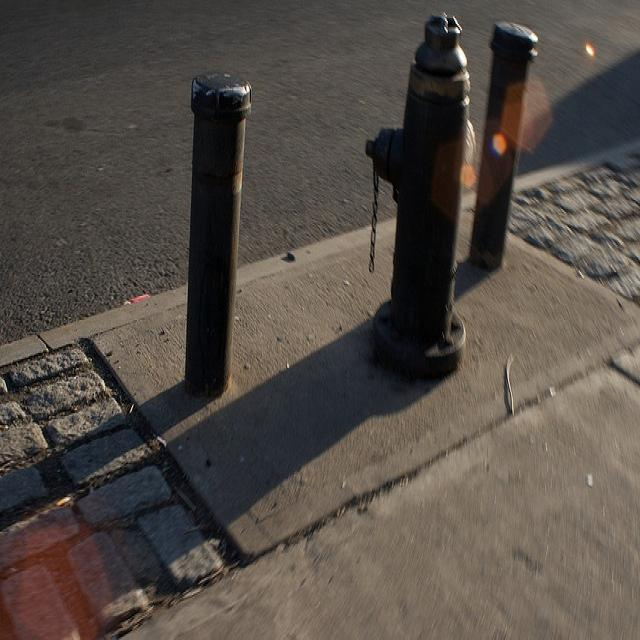fire_hydrant: (363, 11, 476, 376)
